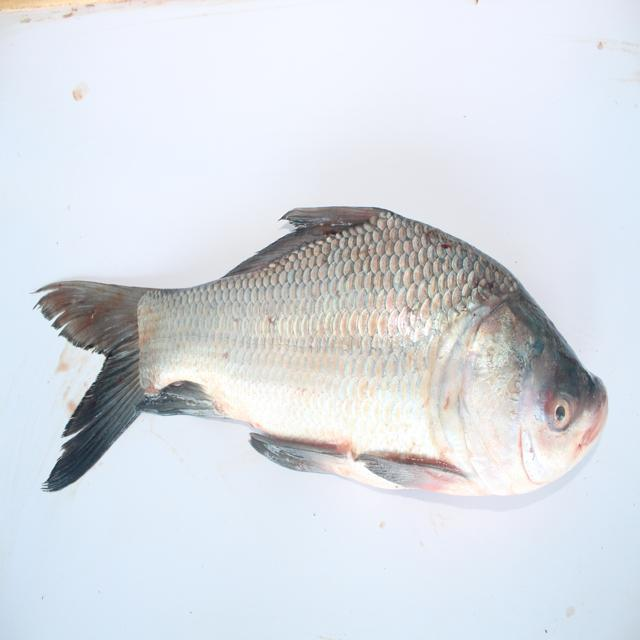Catla: (28, 204, 610, 500)
